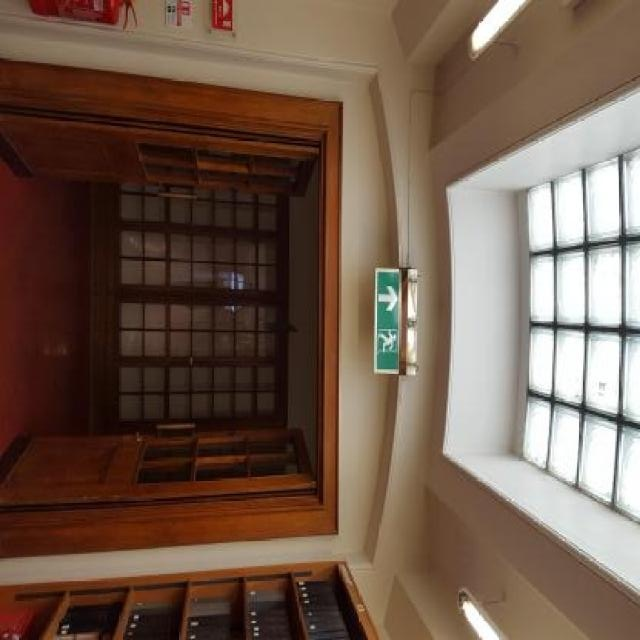fire extinguisher: (27, 2, 138, 30)
